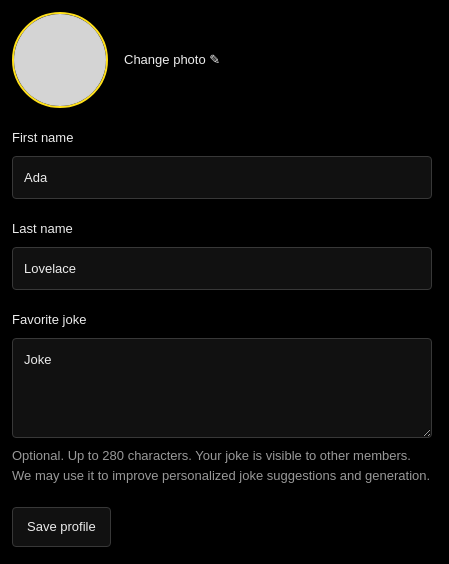
Test: highlights only changed fields and clears the draft when all edits are reverted
Replace the text in the text box labelled "Favorite joke" with "Different joke" at {"x": 222, "y": 388}, box [12,338,432,438]
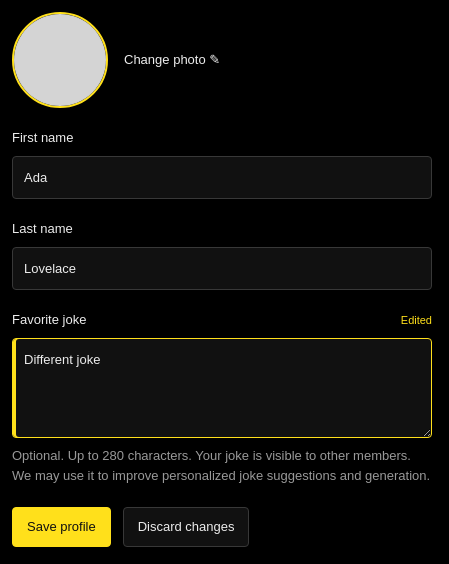
Check: the text "Edited" is shown, box [401,312,432,328]
Replace the text in the text box labelled "Favorite joke" with "Joke" at {"x": 222, "y": 388}, box [12,338,432,438]
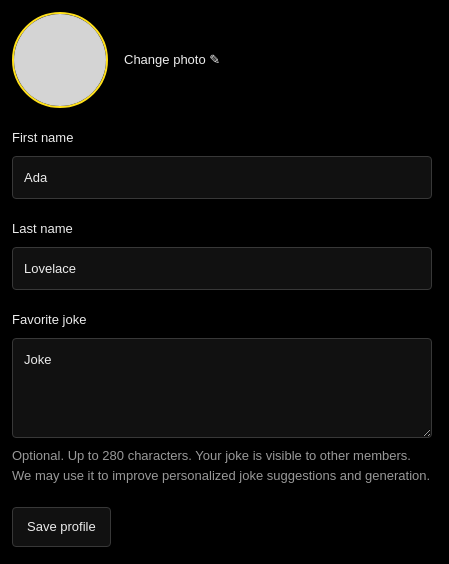
Check: the text "Edited" is gone
